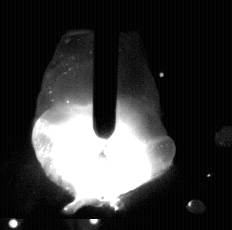arame: (93, 0, 118, 139)
poca: (32, 0, 176, 230)
